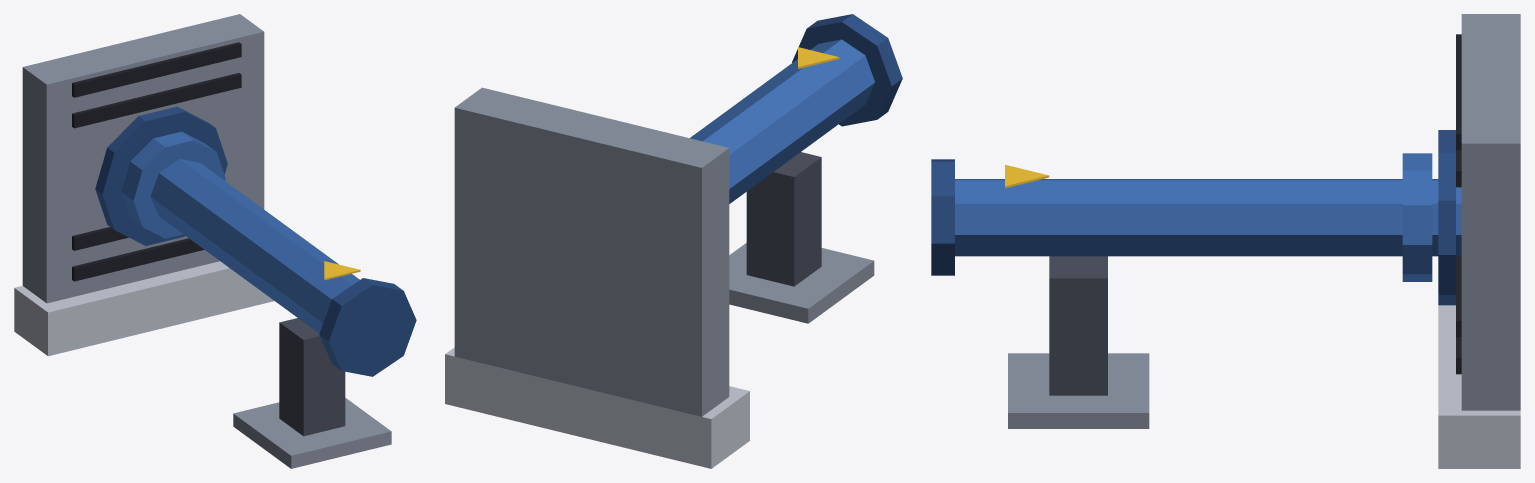
File: water-outlet.glb
3 renders of one model, left to right at view 1: azimuth 30°, elevation 25°; view 2: azimuth 150°, elevation 25°; view 3: azimuth 270°, elevation 25°, orthographic. The views are drawn at different scales.
Parts seen in each view (by area): view 1: water-outlet; view 2: water-outlet; view 3: water-outlet.
Part boxes in pixels (bbox=[...]): water-outlet: bbox=[14, 14, 416, 468]; water-outlet: bbox=[445, 14, 902, 468]; water-outlet: bbox=[931, 14, 1520, 468].
Bounding box in the file's own units: 0.56 × 0.6 × 1.
1 material, 1 textured.
